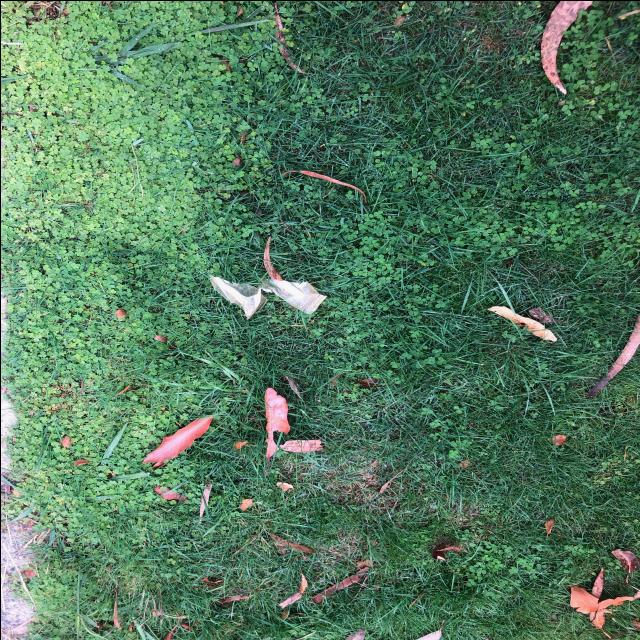Plastic film: (207, 273, 326, 319)
